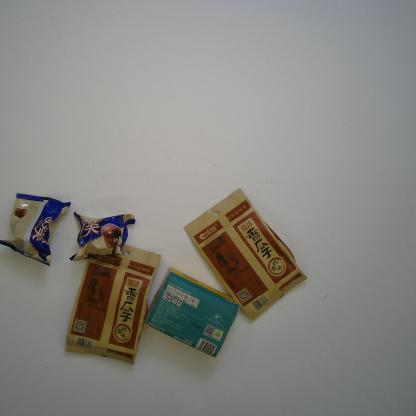Dessert: (0, 193, 71, 267), (68, 211, 136, 262)
Dried Food: (184, 187, 307, 322), (65, 242, 162, 366)
Tissue: (143, 267, 241, 359)
